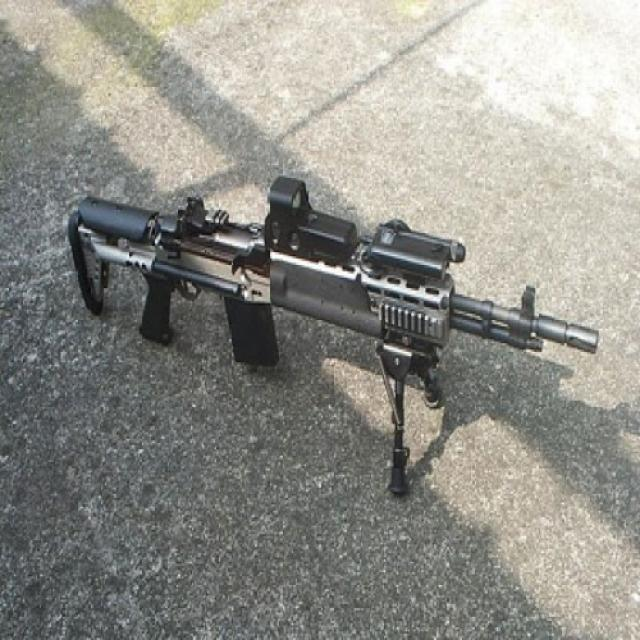Gun: (44, 144, 630, 469)
